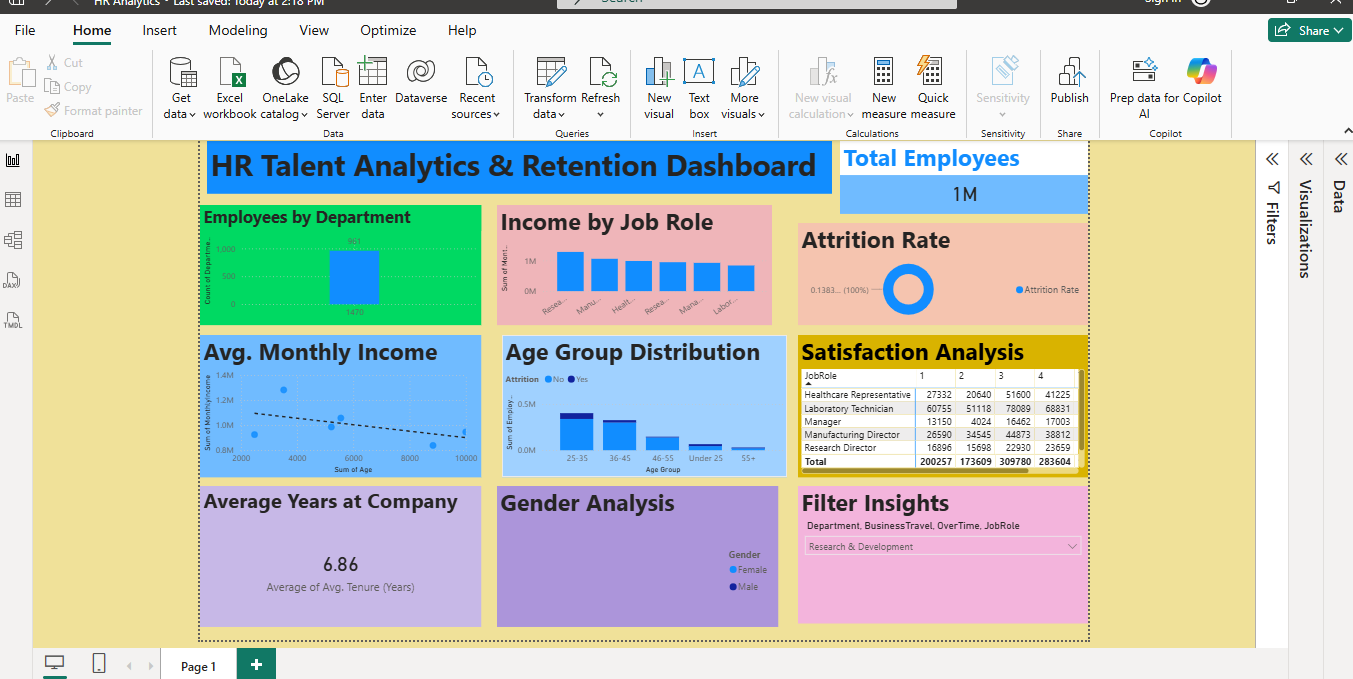

The dashboard page shown, as its layout file describes it:
{"tool":"powerbi","page":{"name":"Page 1","canvas":[1280,720],"ordinal":0},"visuals":[{"type":"textbox","box":[10.1,1.7,900.4,75.6],"z":0},{"type":"card","title":"Total Employees","fields":{"Values":["Sum(HR Documents.Total Employees)"]},"box":[921.6,1.4,358.6,105.1],"z":1000},{"type":"clusteredColumnChart","title":"Employees by Department","fields":{"Y":["CountNonNull(HR Documents.Department)"],"Category":["HR Documents.Total Employees"]},"box":[0,94.1,404.8,173],"z":2000},{"type":"donutChart","title":"Attrition Rate","fields":{"Y":["HR Documents.Attrition Rate"]},"box":[861.1,119.5,419,146.9],"z":3000},{"type":"pieChart","title":"Gender Analysis","fields":{"Category":["HR Documents.Gender"]},"box":[428.3,498.9,404.8,203.3],"z":4000},{"type":"clusteredColumnChart","title":"Income by Job Role","fields":{"Category":["HR Documents.JobRole"],"Y":["Sum(HR Documents.MonthlyIncome)"]},"box":[428.3,94.1,396.4,173],"z":5000},{"type":"columnChart","title":"Age Group Distribution","fields":{"Category":["HR Documents.Age Group"],"Series":["HR Documents.Attrition"],"Y":["Sum(HR Documents.EmployeeNumber)"]},"box":[435.1,280.5,409.9,204.9],"z":6000},{"type":"pivotTable","title":"Satisfaction Analysis","fields":{"Rows":["HR Documents.JobRole"],"Columns":["HR Documents.JobSatisfaction"],"Values":["Sum(HR Documents.EmployeeNumber)"]},"box":[861.7,280.5,418.3,204.9],"z":6001},{"type":"scatterChart","title":"Avg. Monthly Income","fields":{"X":["Sum(HR Documents.Age)"],"Y":["Sum(HR Documents.MonthlyIncome)"],"Category":["HR Documents.JobRole"]},"box":[0,280.5,404.8,204.9],"z":6002},{"type":"card","title":"Average Years at Company","fields":{"Values":["Avg(HR Documents.YearsAtCompany)"]},"box":[0,498.9,404.8,203.3],"z":6003},{"type":"slicer","title":"Filter Insights","fields":{"Values":["HR Documents.Department","HR Documents.BusinessTravel","HR Documents.OverTime","HR Documents.JobRole"]},"box":[861.7,498.9,418.3,198.2],"z":6004}]}

Visuals, with their boxes on the page's 1280x720 design canvas (x1, y1, x2, y2). These are canvas units, not pixel positions in the 1353x679 screenshot, which may show the page scaled, cropped or inside an application window:
textbox: BBox(10, 2, 910, 77)
"Total Employees" card: BBox(922, 1, 1280, 106)
"Employees by Department" clusteredColumnChart: BBox(0, 94, 405, 267)
"Attrition Rate" donutChart: BBox(861, 120, 1280, 266)
"Gender Analysis" pieChart: BBox(428, 499, 833, 702)
"Income by Job Role" clusteredColumnChart: BBox(428, 94, 825, 267)
"Age Group Distribution" columnChart: BBox(435, 280, 845, 485)
"Satisfaction Analysis" pivotTable: BBox(862, 280, 1280, 485)
"Avg. Monthly Income" scatterChart: BBox(0, 280, 405, 485)
"Average Years at Company" card: BBox(0, 499, 405, 702)
"Filter Insights" slicer: BBox(862, 499, 1280, 697)
